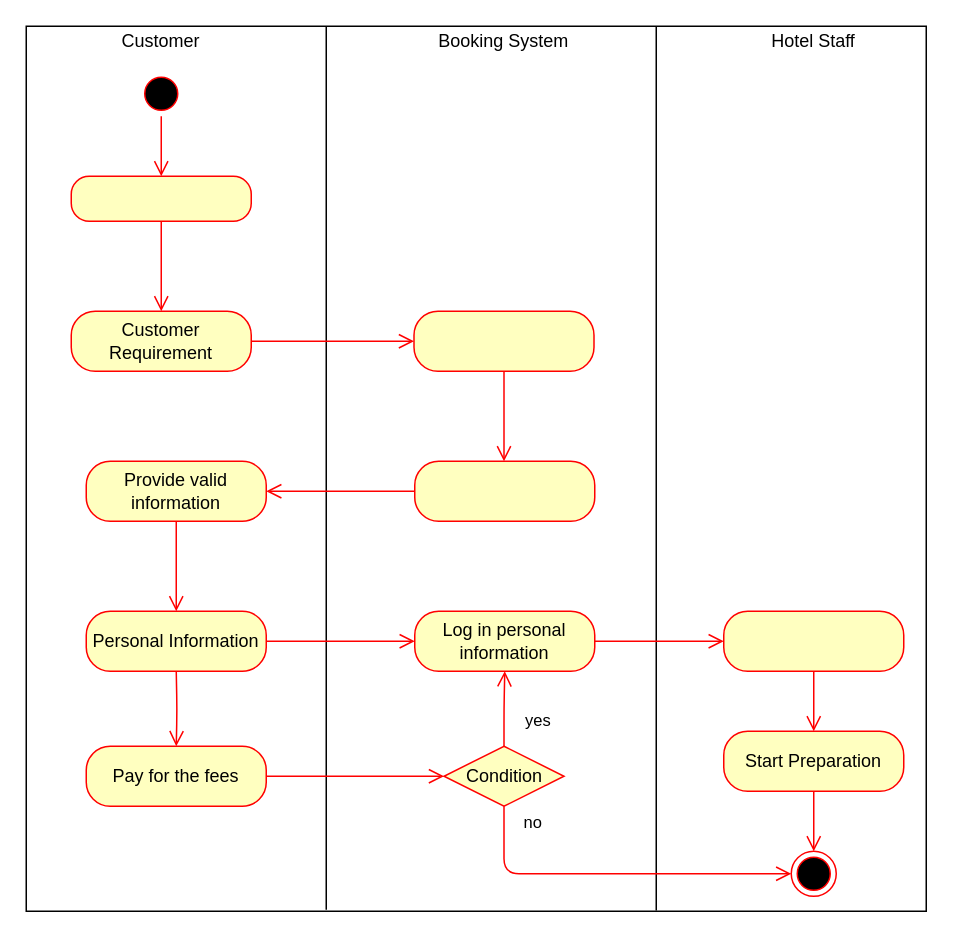
Some shapes in this 953 by 939 pixel diagram are drawn without their labels. The centre of each missing label's shape, as x and y in pixels:
"Ask for personal information" belongs at point (504, 490).
"Fill in the form" belongs at point (160, 198).
"Log in requirements" belongs at point (503, 340).
"Print out Information" belongs at point (813, 640).
